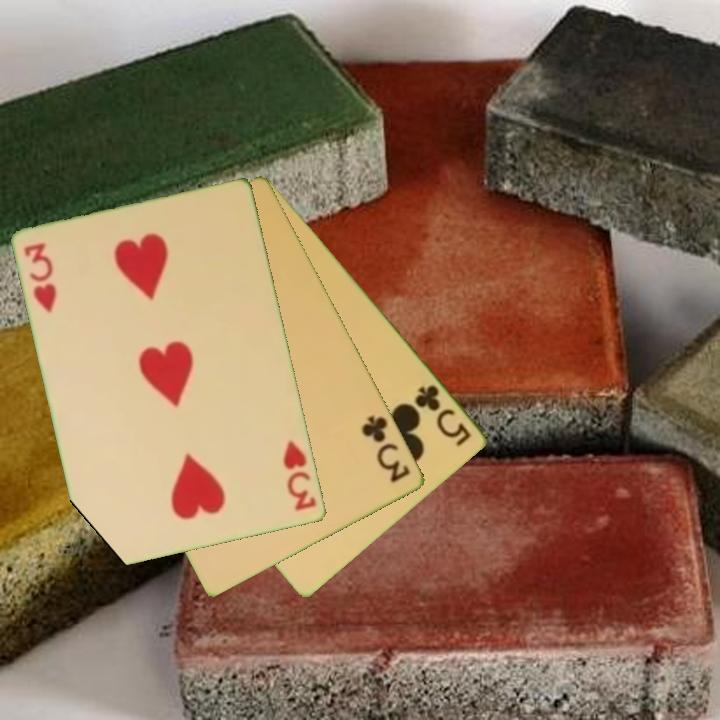3c: (358, 412, 414, 486)
3h: (280, 437, 320, 514), (21, 239, 60, 316)
5c: (411, 381, 475, 450)
